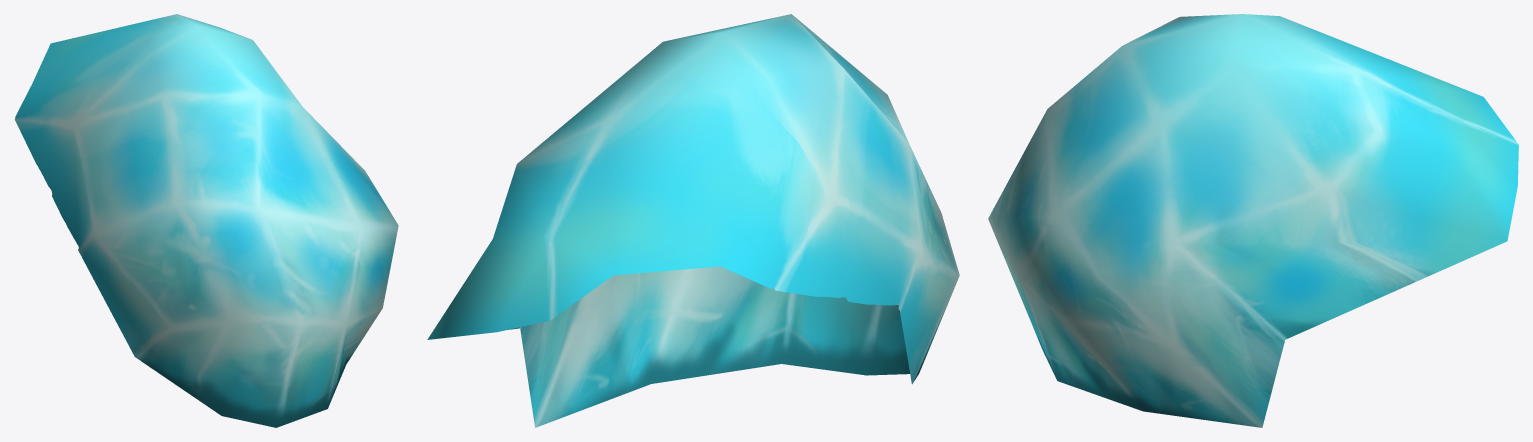
File: crystal.fbx
The picture shows the model from 3 angles, left to right: view 1: azimuth 30°, elevation 25°; view 2: azimuth 150°, elevation 25°; view 3: azimuth 270°, elevation 25°; orthographic projection. The views are drawn at different scales.
Visible parts, largest first — view 1: polySurface1781; view 2: polySurface1781; view 3: polySurface1781.
Boxes of the visible parts, x1,y1,x2,y2 form: polySurface1781: [15, 14, 398, 427]; polySurface1781: [427, 14, 959, 427]; polySurface1781: [988, 14, 1518, 427].
Size of the model in its own units: 2.52 by 3.02 by 4.21.
Materials: 1 (1 with a texture image).
